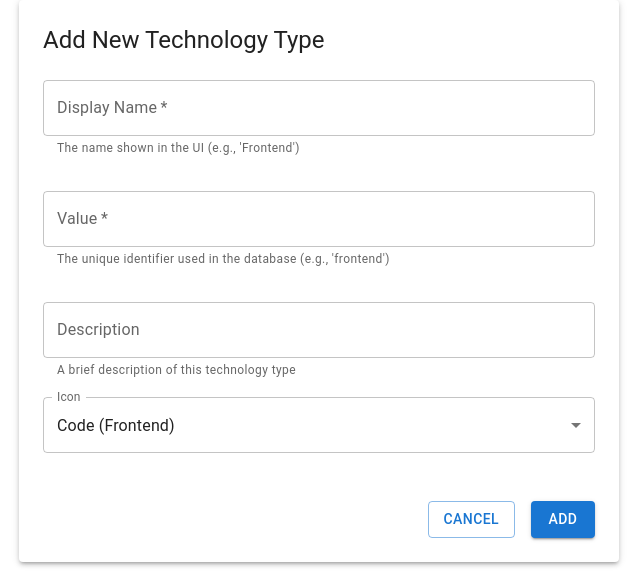
TechnologyTypeForm › validates required fields
Click the button "Add" at (563, 519), box 531,501 -> 595,538
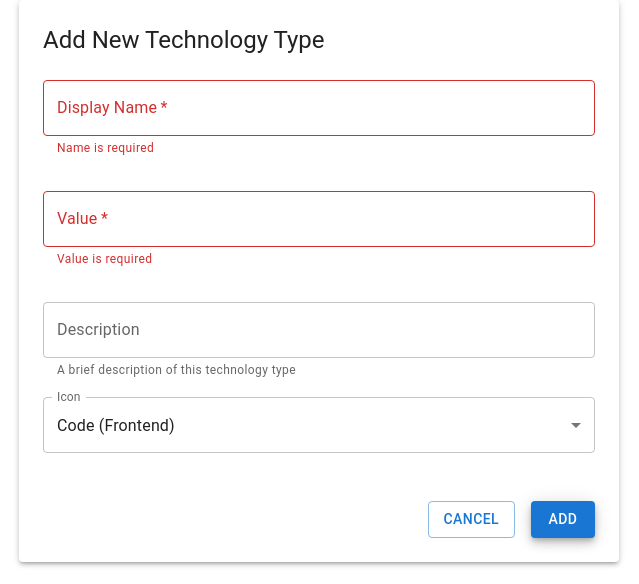
Check: the text "Name is required" is shown, box 57,141 -> 154,155
